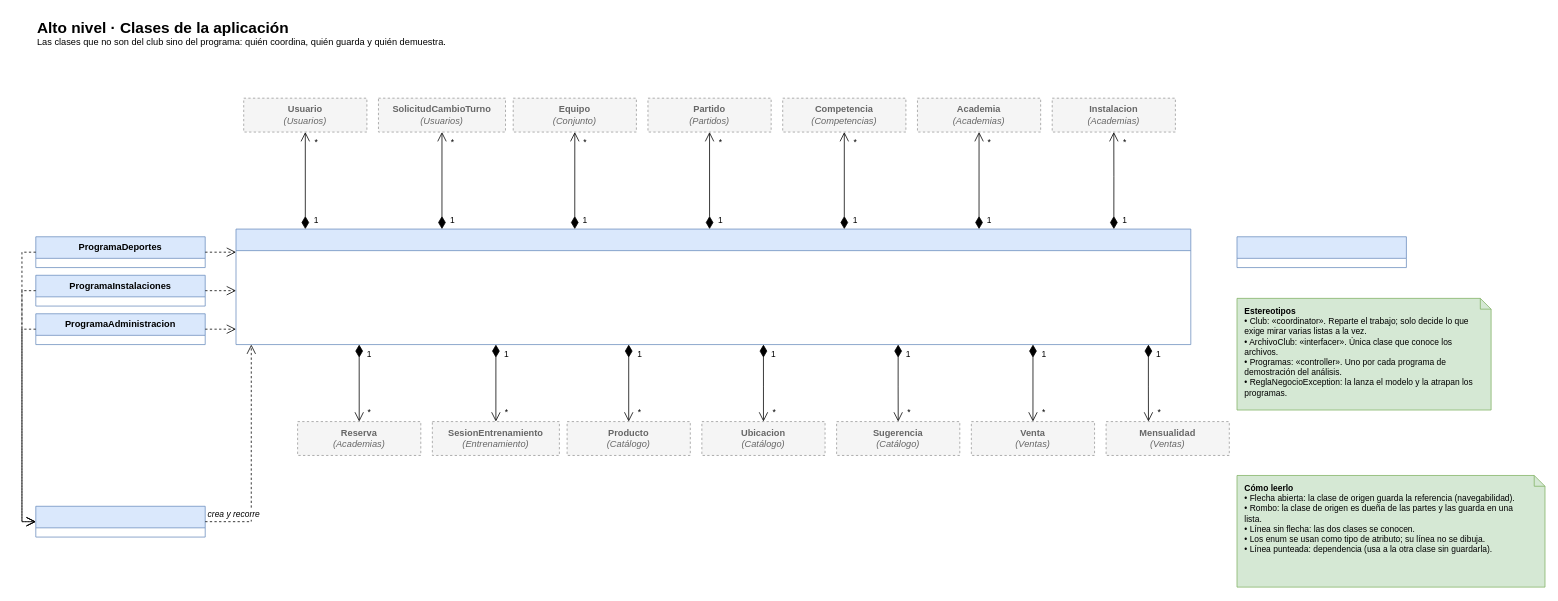
Image size: 1558x601. Some labels were removed from this diagram. The centre of each missing label's shape, as x and y in pixels:
"ArchivoClub" goes at point 120,521.
"Club" goes at point 713,286.
"ReglaNegocioException" goes at point 1321,252.
